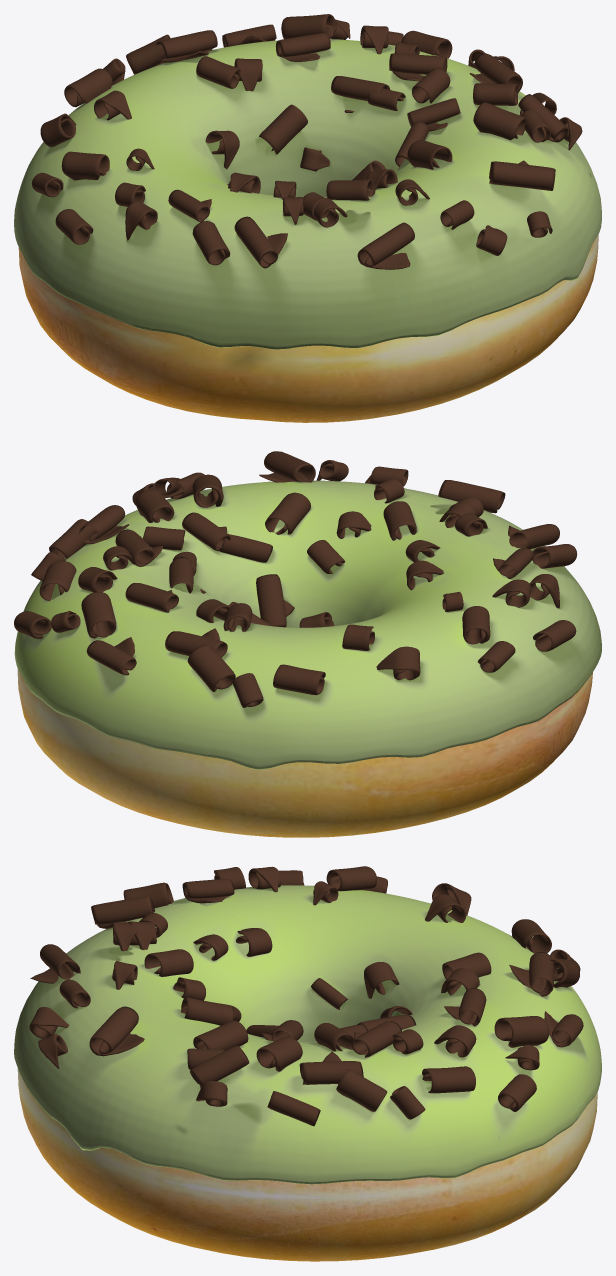
File: pistachio dark curls.glb
The picture shows the model from 3 angles, top to bottom: view 1: azimuth 30°, elevation 25°; view 2: azimuth 150°, elevation 25°; view 3: azimuth 270°, elevation 25°; orthographic projection. The views are drawn at different scales.
Parts seen in each view (by area): view 1: coffee.001, pustachio, choco & straw curls, Torus; view 2: pustachio, coffee.001, choco & straw curls, Torus; view 3: pustachio, coffee.001, choco & straw curls, Torus.
Boxes of the visible parts, x1,y1,x2,y2 form: coffee.001: (14, 39, 601, 349); pustachio: (15, 39, 601, 349); choco & straw curls: (32, 14, 582, 269); Torus: (18, 234, 598, 422); pustachio: (15, 481, 585, 769); coffee.001: (14, 480, 601, 769); choco & straw curls: (14, 451, 577, 707); Torus: (17, 669, 592, 837); pustachio: (48, 885, 601, 1184); coffee.001: (14, 885, 601, 1184); choco & straw curls: (29, 866, 583, 1126); Torus: (17, 1068, 597, 1261).
Size of the model in its own units: 0.1989 by 0.0804 by 0.1972.
4 materials, 2 textured.
